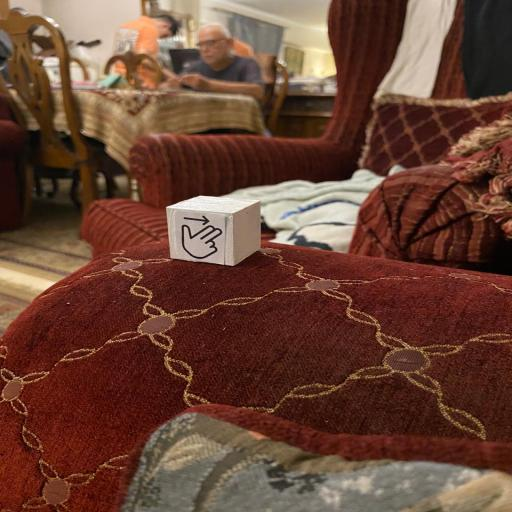RightSwipe: (165, 195, 263, 267)
